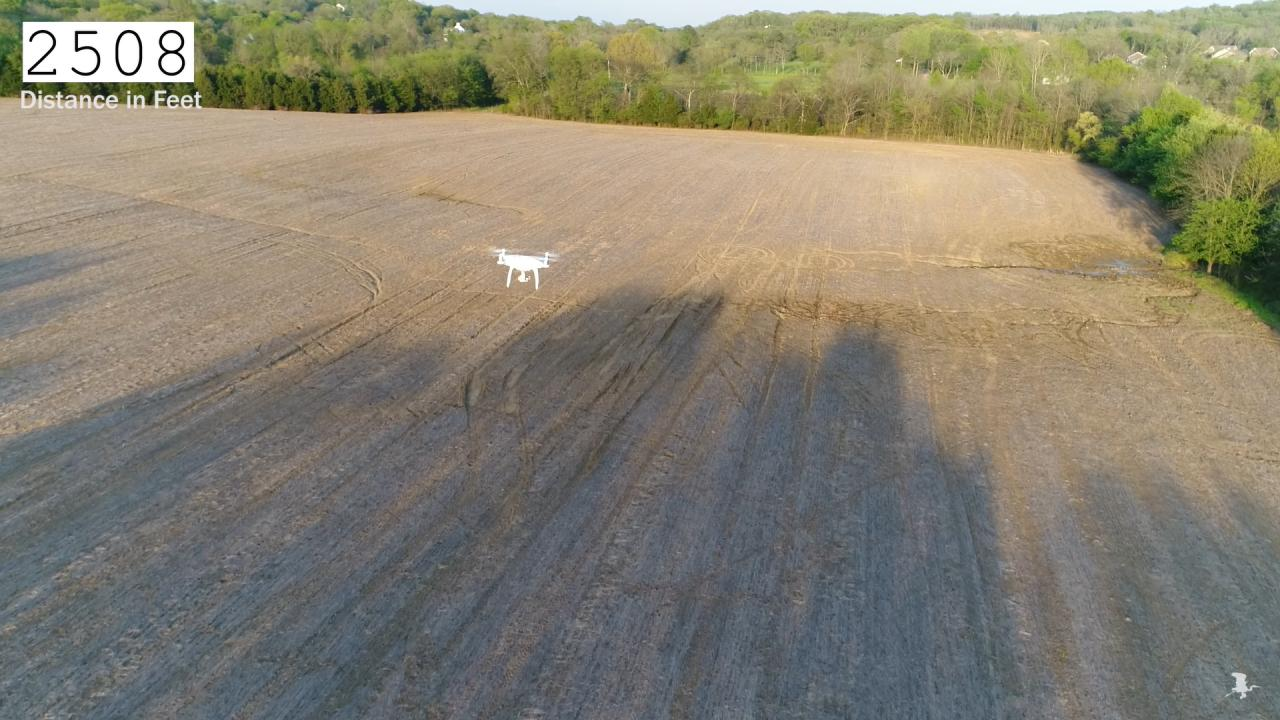Drone: (486, 241, 566, 298)
